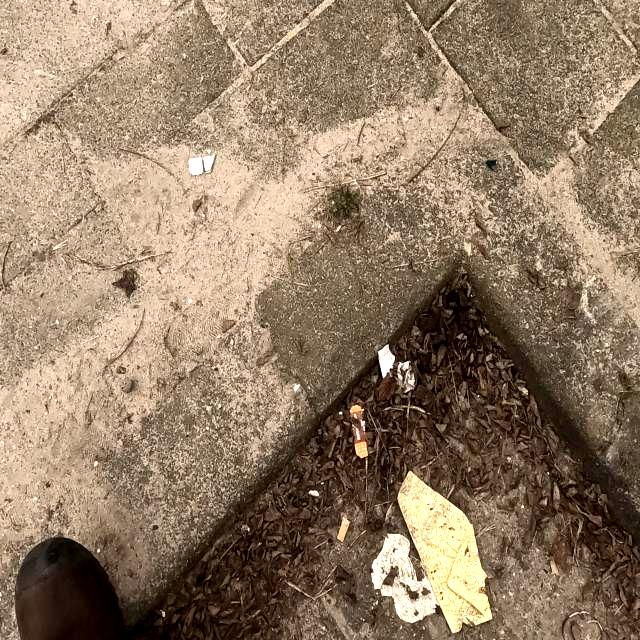Paper: (397, 470, 493, 634), (370, 532, 440, 624), (377, 342, 415, 393)
Plastic: (349, 402, 369, 458)
